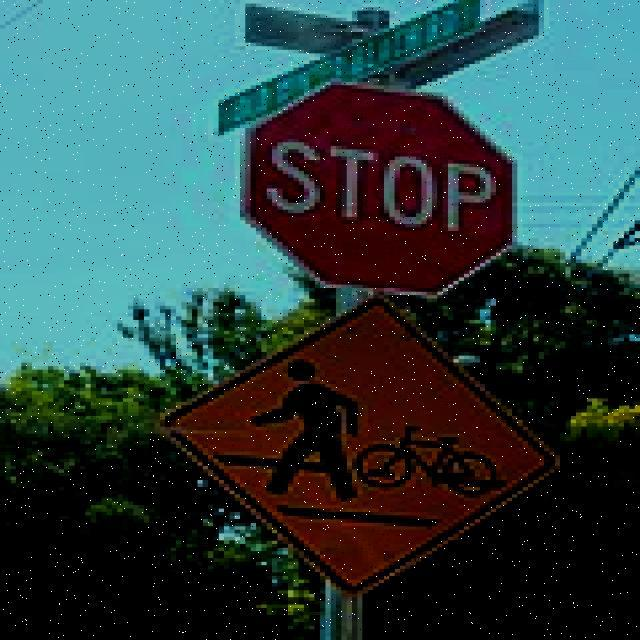Traffic sign: (147, 0, 571, 602)
